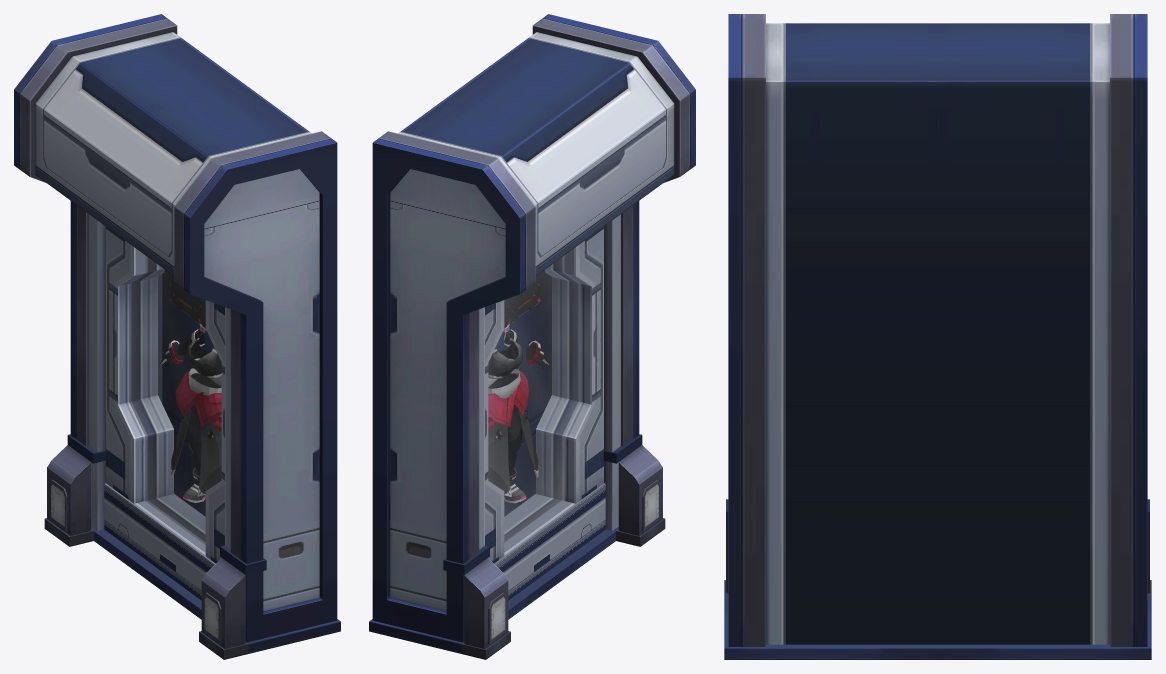
File: my_carrier_01_suitcase_01.glb
3 renders of one model, left to right at view 1: azimuth 30°, elevation 25°; view 2: azimuth 150°, elevation 25°; view 3: azimuth 270°, elevation 25°, orthographic. The views are drawn at different scales.
Visible parts, largest first — view 1: my_carrier_01_suitcase_01.001, my_carrier_01_suitcase_01_a, my_carrier_01_suitcase_01_suit; view 2: my_carrier_01_suitcase_01.001, my_carrier_01_suitcase_01_a, my_carrier_01_suitcase_01_suit; view 3: my_carrier_01_suitcase_01.001.
Boxes of the visible parts, bbox=[...] form: my_carrier_01_suitcase_01.001: bbox=[14, 14, 340, 659]; my_carrier_01_suitcase_01_a: bbox=[129, 255, 221, 544]; my_carrier_01_suitcase_01_suit: bbox=[160, 270, 221, 502]; my_carrier_01_suitcase_01.001: bbox=[369, 14, 695, 659]; my_carrier_01_suitcase_01_a: bbox=[488, 255, 580, 544]; my_carrier_01_suitcase_01_suit: bbox=[488, 270, 549, 503]; my_carrier_01_suitcase_01.001: bbox=[724, 14, 1151, 659].
Bounding box in the file's own units: 0.00574 × 0.0179 × 0.012.
Materials: 2 (2 with a texture image).
